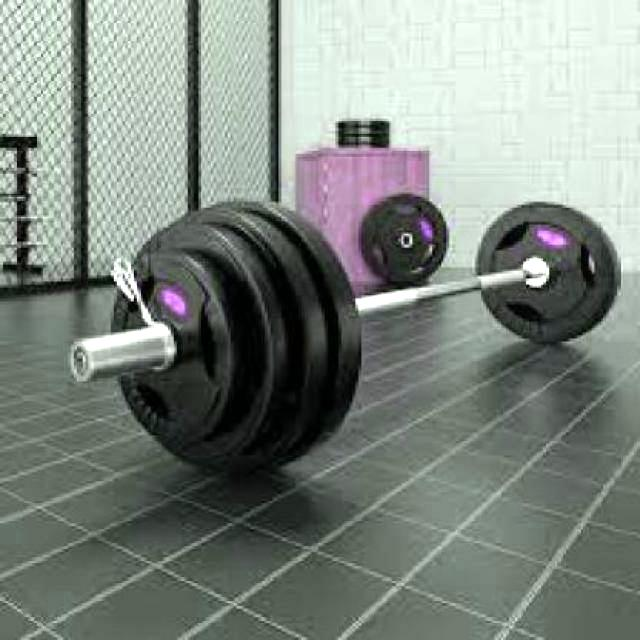barbell: (111, 192, 370, 484), (474, 197, 625, 354)
